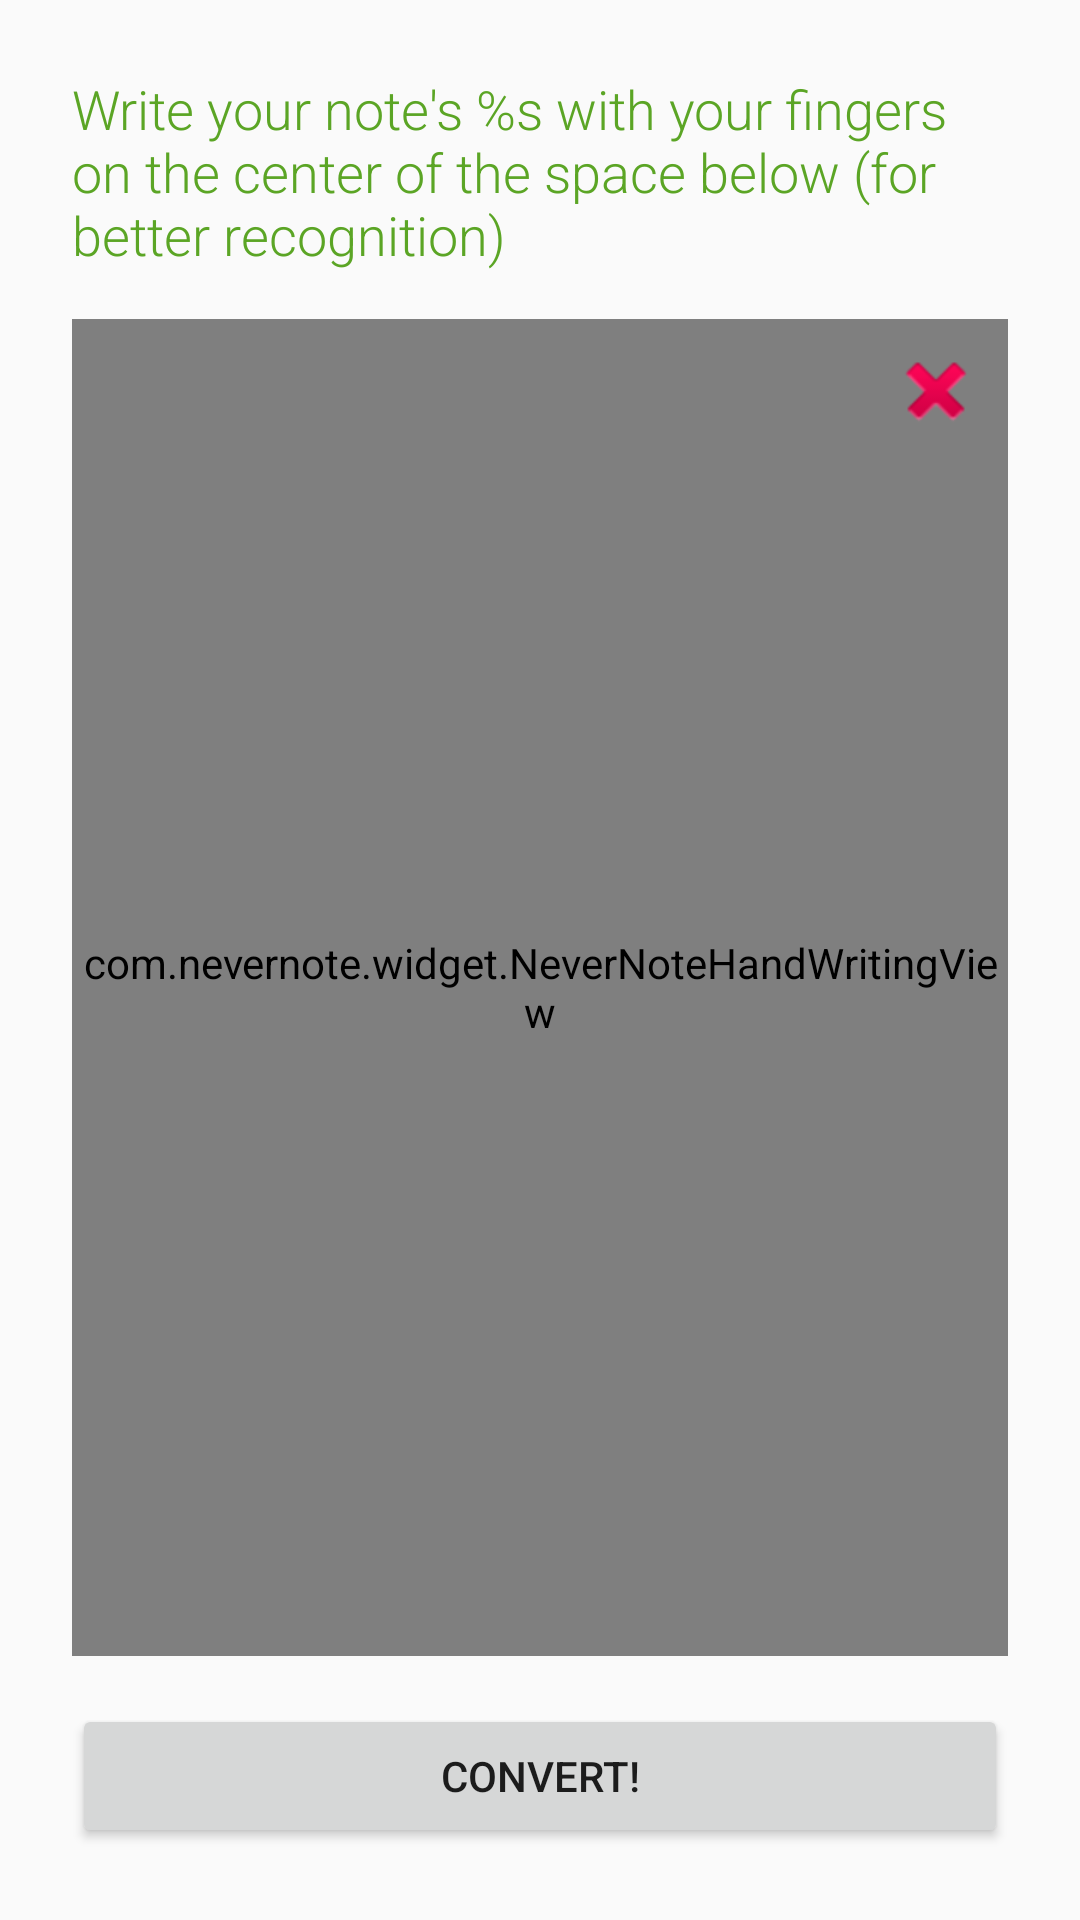

Where icons sit on this 1080px x 1920px app screen, as (x1, y1, x2, y2):
delete: (906, 362, 966, 421)
